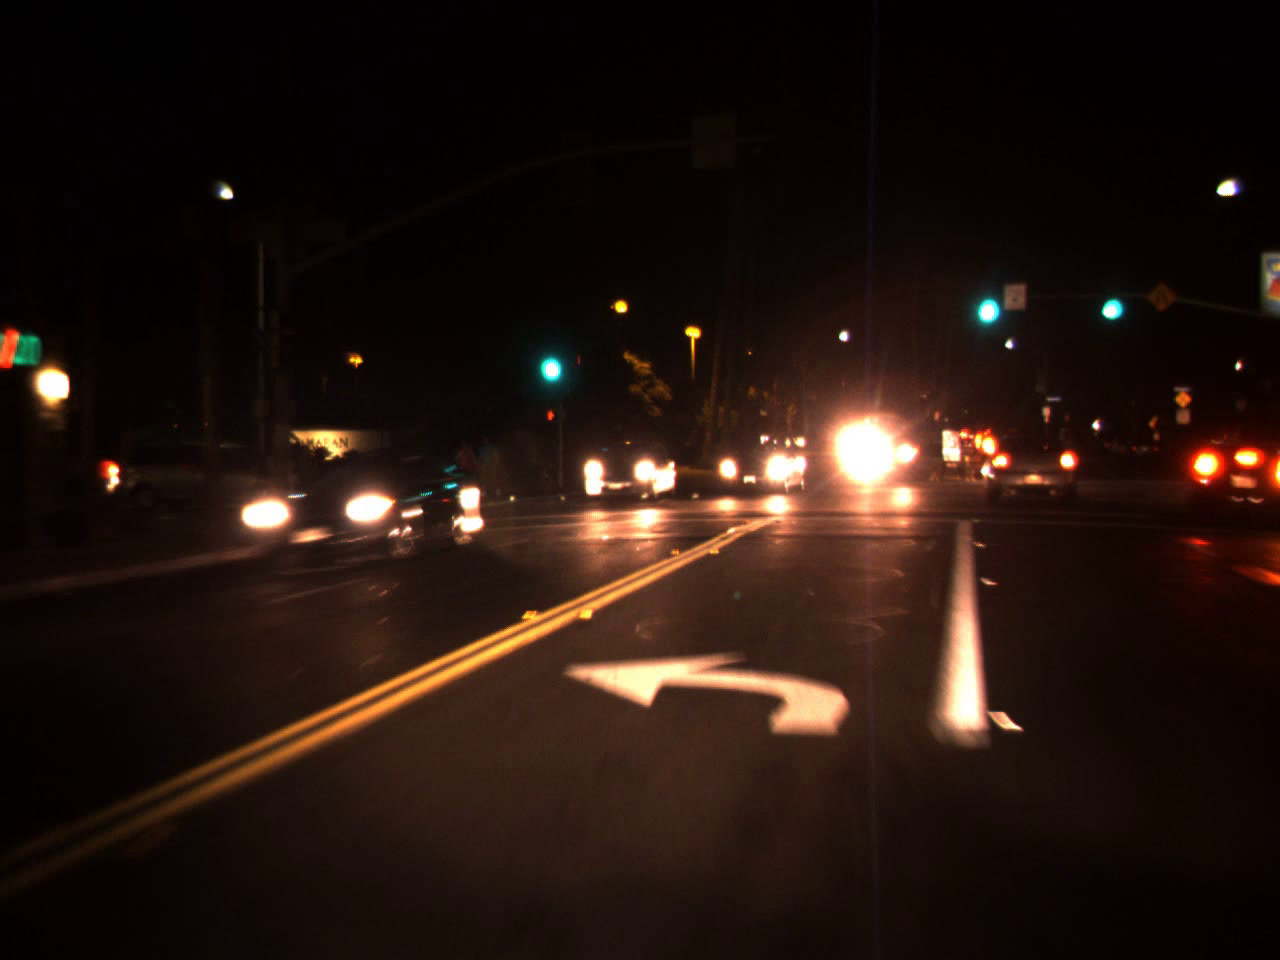go: (968, 267, 1004, 333), (533, 327, 565, 390), (1092, 271, 1128, 328)
